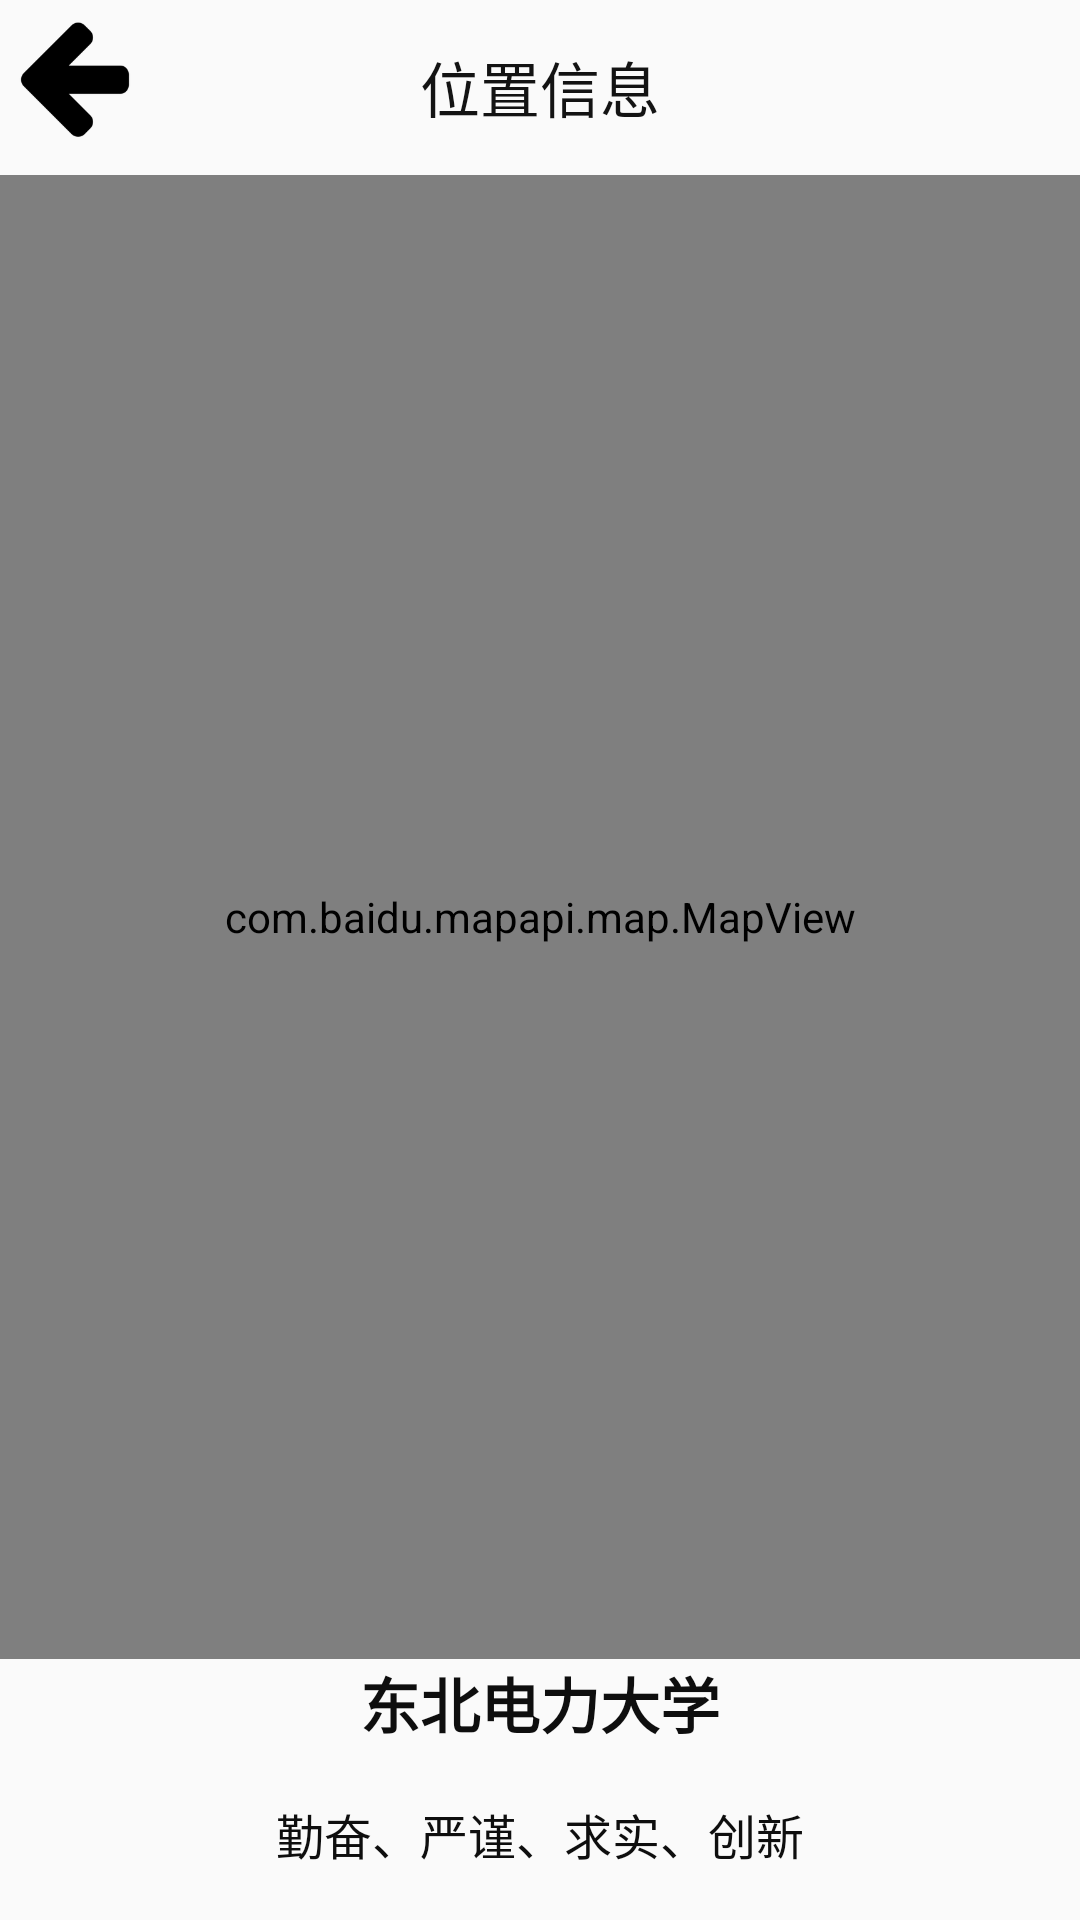

Where to tap for icons on this 1080 x 1920 app screen, as point (x, y):
fanhui: point (75, 79)
